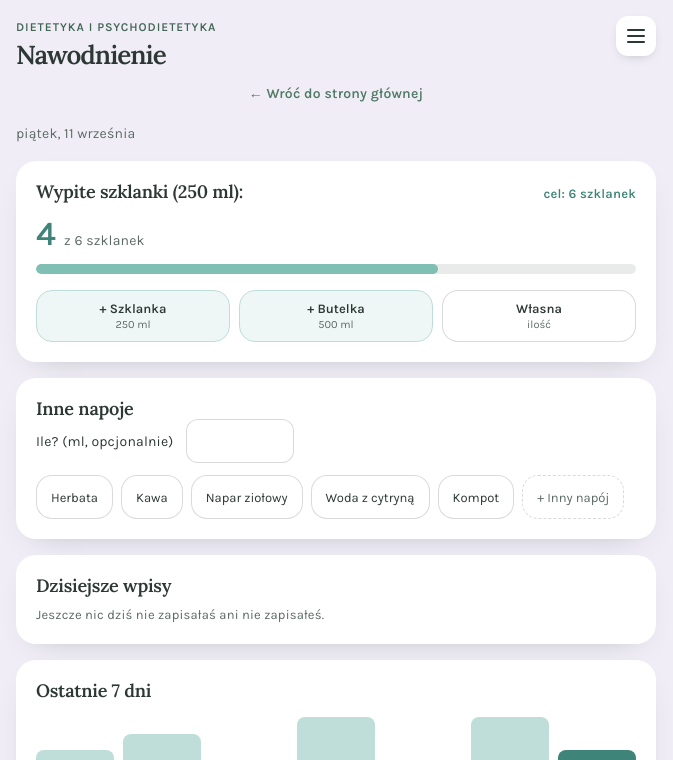
Scenario: a custom amount › states its bounds rather than only enforcing them
The width and height of the screenshot is (673, 760).
Step 1. Click the button "Własna ilość" → (539,316), box [442, 290, 636, 342]
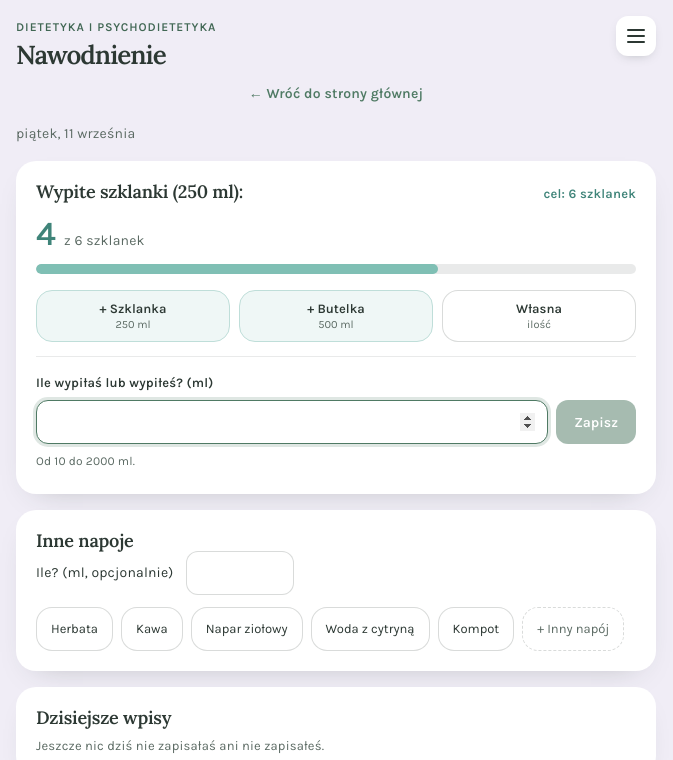
Check: the text "Od 10 do 2000 ml." is shown, box [36, 454, 135, 468]
